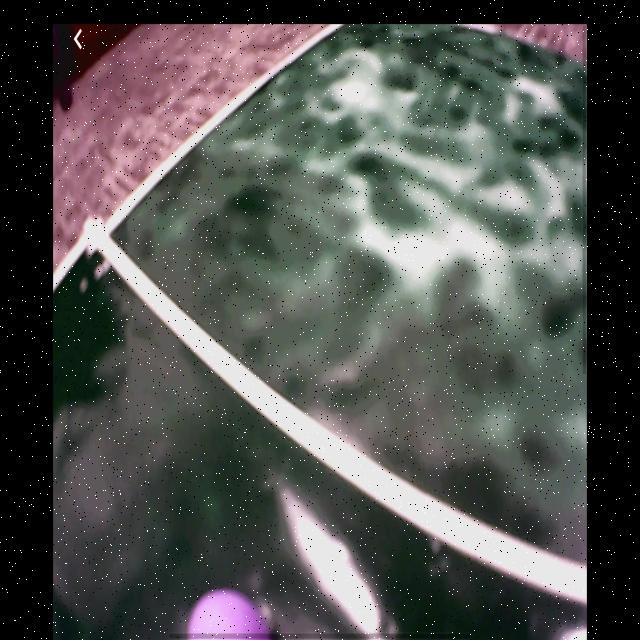ball: (182, 586, 272, 640)
